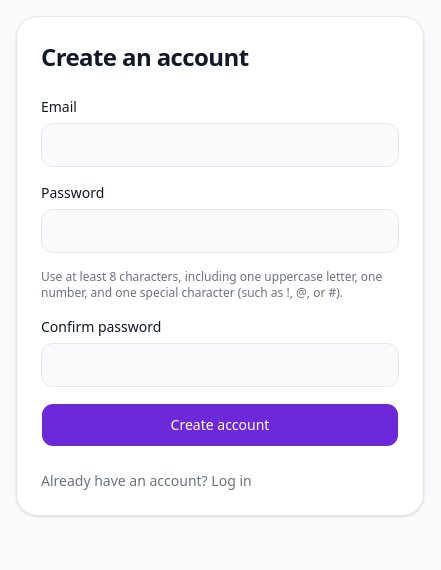
registration form › rejects mismatched passwords before contacting Supabase
Step 1. Type "person@example.com" into the field labelled "Email" → (220, 145), box [41,123,399,167]
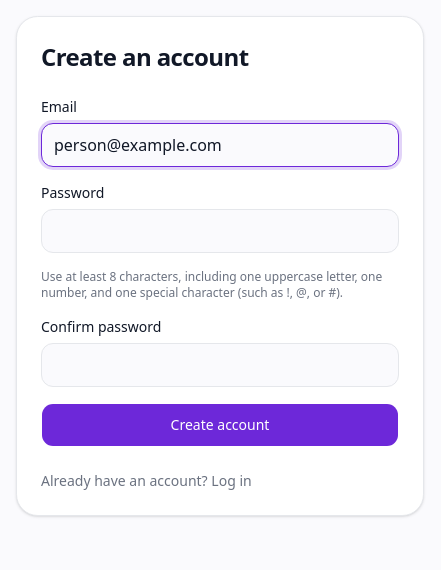
Step 2. Type "Test-password1!" into the password field labelled "Password" → (220, 231), box [41,209,399,253]
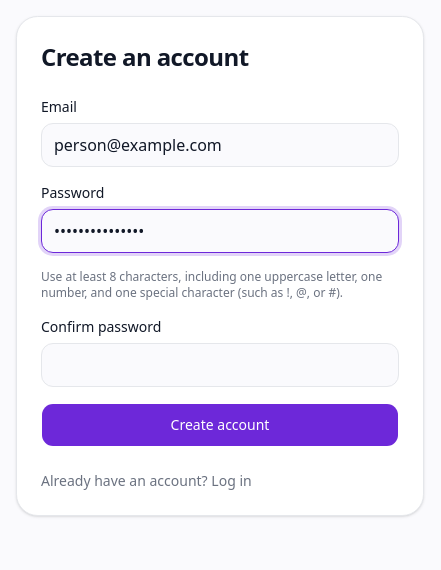
Step 3. Type "different-password" into the password field labelled "Confirm password" → (220, 365), box [41,343,399,387]
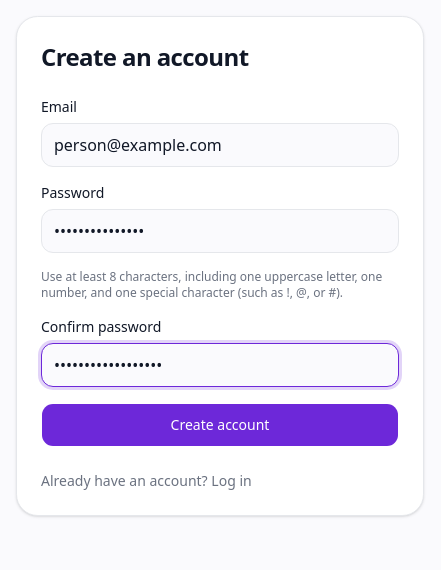
Step 4. Click the button "Create account" → (220, 425), box [41,403,399,447]
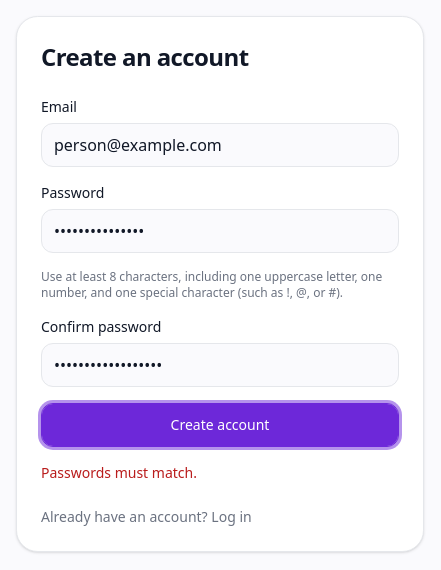
Check: the message reads "Passwords must match.", box [41,463,197,482]
